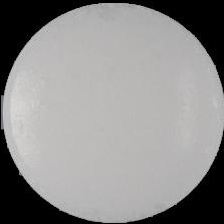21695-589: (0, 0, 224, 224)
